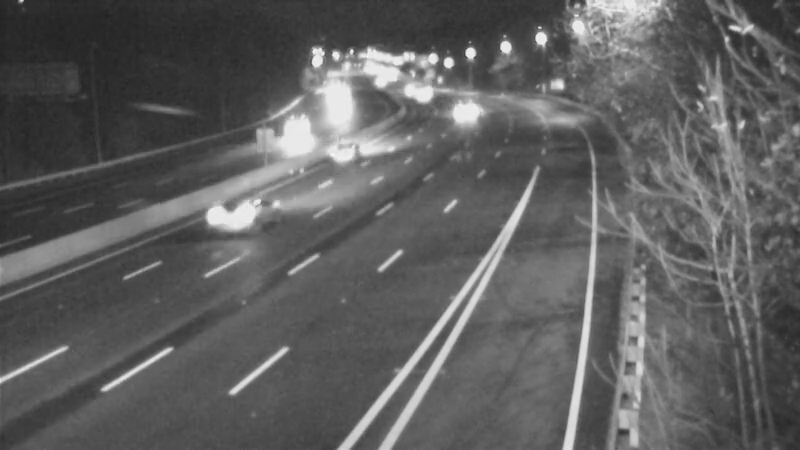vehicle: (306, 112, 386, 192), (191, 179, 271, 259), (382, 64, 432, 114), (401, 69, 451, 119), (431, 85, 481, 135), (267, 109, 317, 159), (312, 74, 362, 124)
